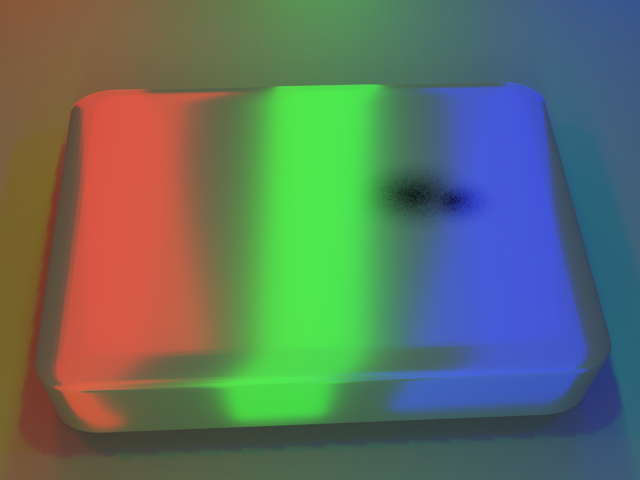stain: (355, 138, 551, 247)
